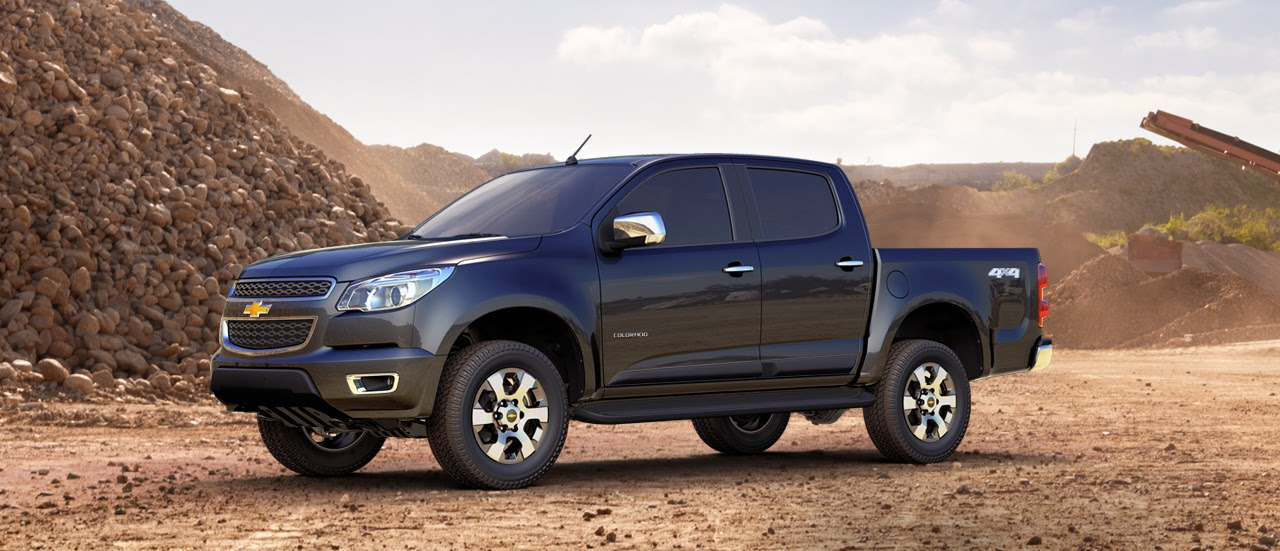pickup: (211, 142, 1056, 497)
